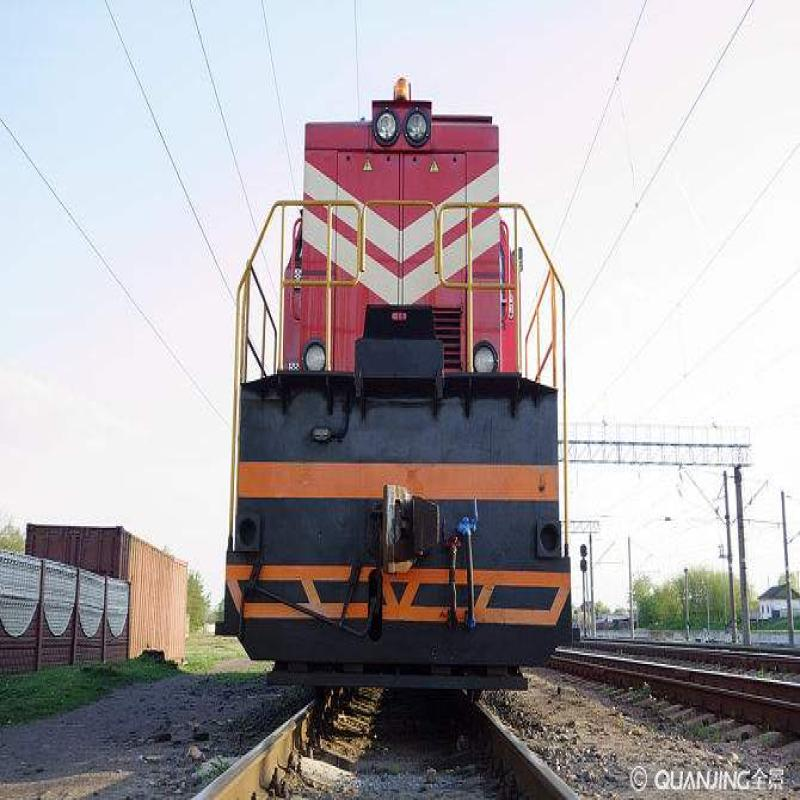train: (217, 90, 581, 699)
